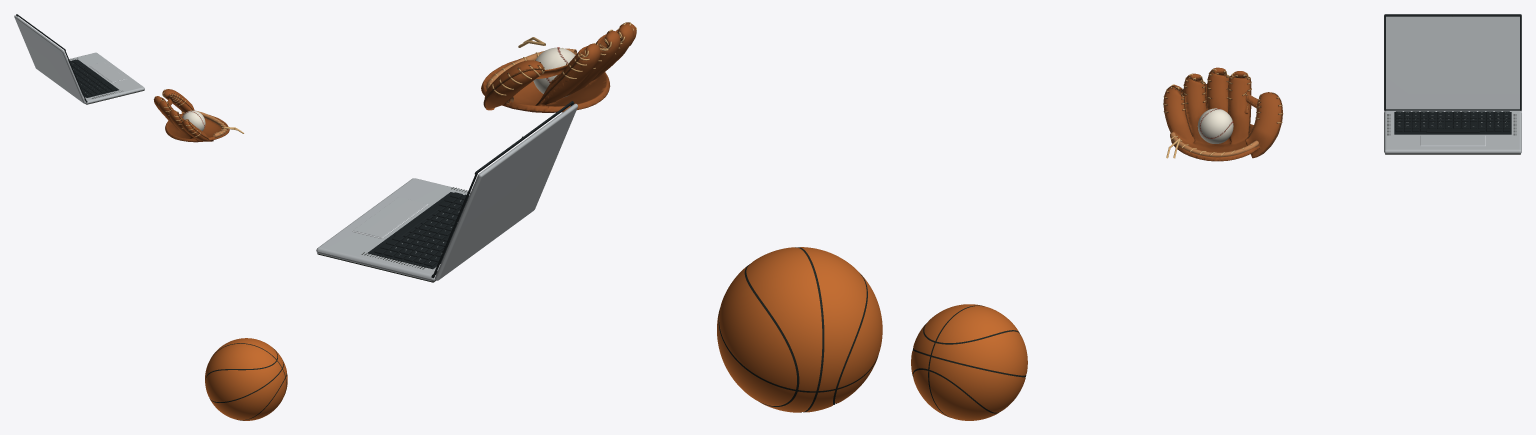
The model's file is about-room-props.glb.
3 renders of one model, left to right at view 1: azimuth 30°, elevation 25°; view 2: azimuth 150°, elevation 25°; view 3: azimuth 270°, elevation 25°, orthographic. The views are drawn at different scales.
Parts seen in each view (by area): view 1: about-room-basketball, about-room-macbook, about-room-baseball; view 2: about-room-basketball, about-room-macbook, about-room-baseball; view 3: about-room-macbook, about-room-basketball, about-room-baseball.
Boxes of the visible parts, box(x1,y1,x2,y2) form: about-room-basketball: box(205, 338, 287, 420); about-room-macbook: box(14, 14, 144, 104); about-room-baseball: box(153, 89, 244, 142); about-room-basketball: box(717, 247, 882, 412); about-room-macbook: box(316, 101, 577, 282); about-room-baseball: box(481, 22, 636, 112); about-room-macbook: box(1384, 14, 1521, 154); about-room-basketball: box(911, 304, 1027, 420); about-room-baseball: box(1163, 67, 1283, 161).
Size of the model in its own units: 3.41 by 8.35 by 12.23.
